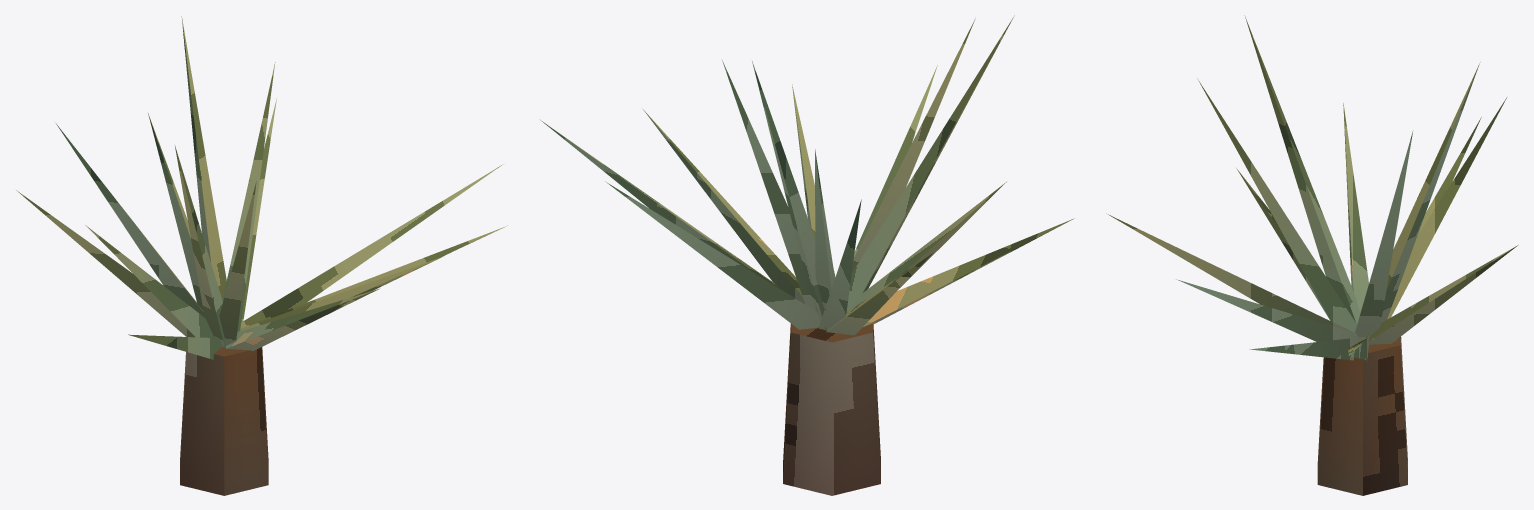
The model's file is wland.yucca__no_stalk.glb.
The picture shows the model from 3 angles, left to right: view 1: azimuth 30°, elevation 25°; view 2: azimuth 150°, elevation 25°; view 3: azimuth 270°, elevation 25°; orthographic projection. The views are drawn at different scales.
Parts seen in each view (by area): view 1: kit_leaves, kit_trunk; view 2: kit_leaves, kit_trunk; view 3: kit_leaves, kit_trunk.
Boxes of the visible parts, x1,y1,x2,y2 form: kit_leaves: (16, 16, 507, 359); kit_trunk: (180, 347, 268, 495); kit_leaves: (540, 15, 1073, 335); kit_trunk: (783, 323, 880, 495); kit_leaves: (1106, 15, 1518, 360); kit_trunk: (1317, 337, 1407, 495).
Bounding box in the file's own units: 1.17 × 1.07 × 0.9535.
2 materials, 2 textured.
